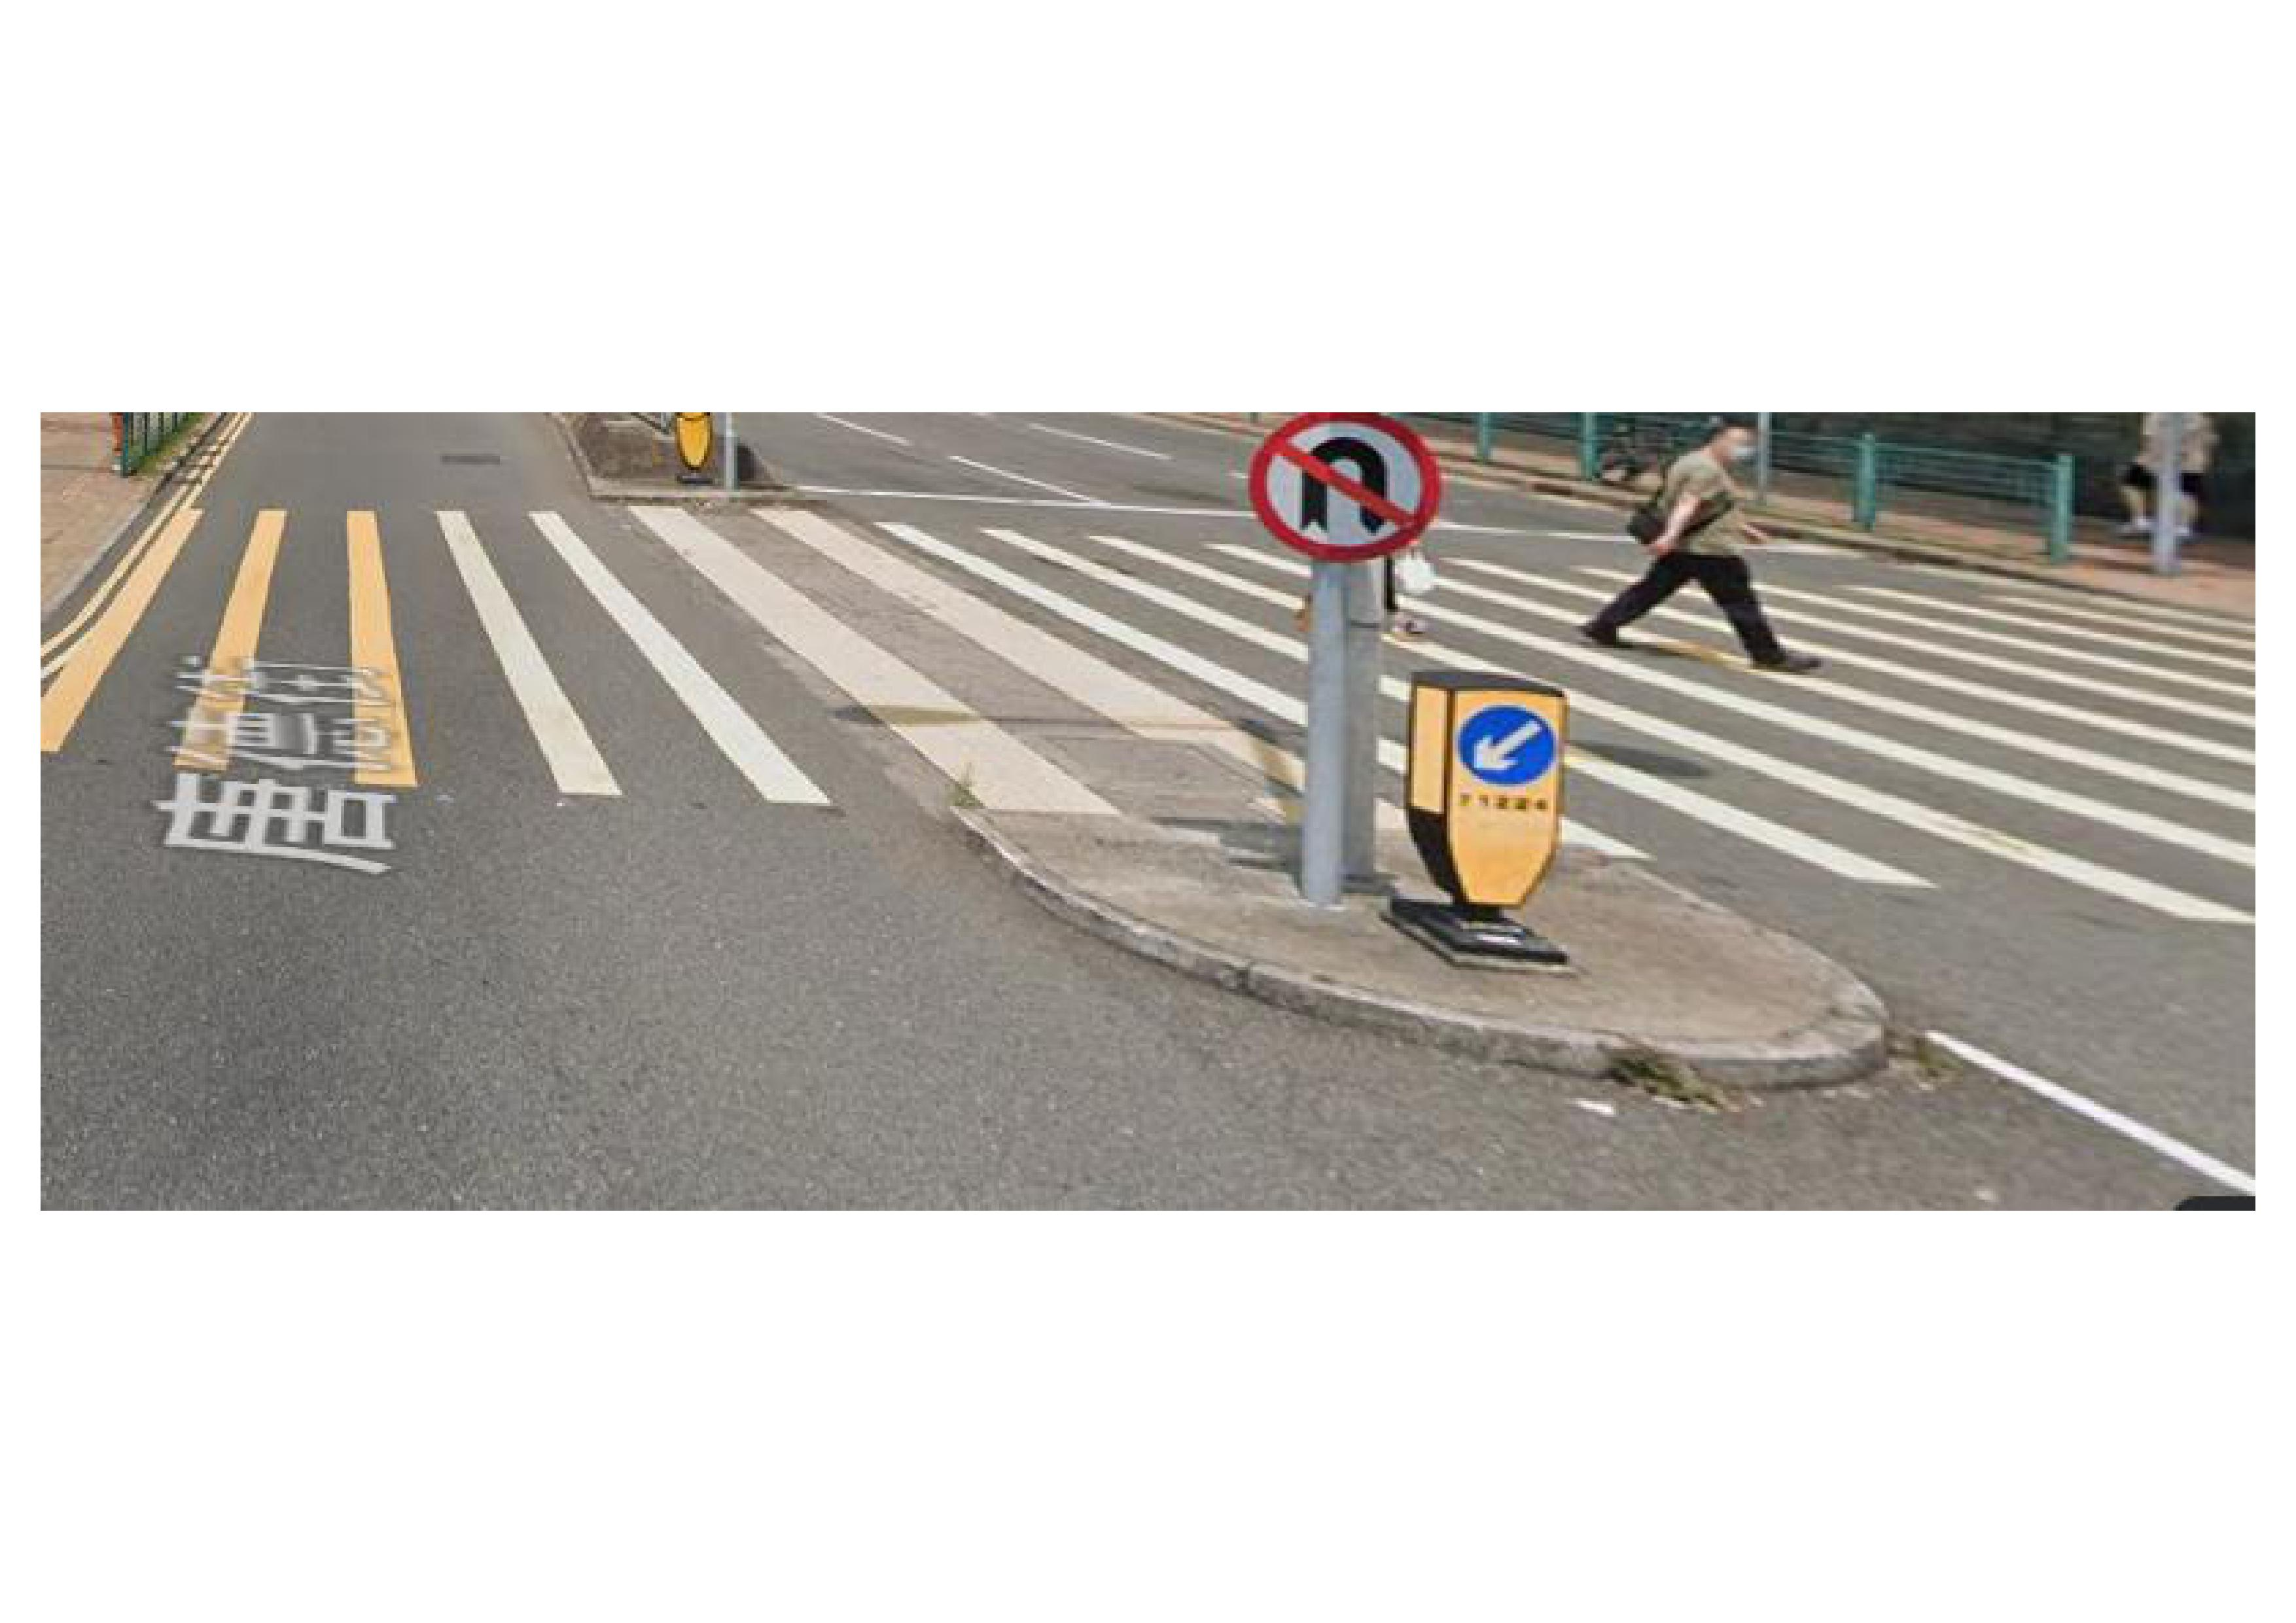No Uturn: (1239, 411, 1445, 560)
